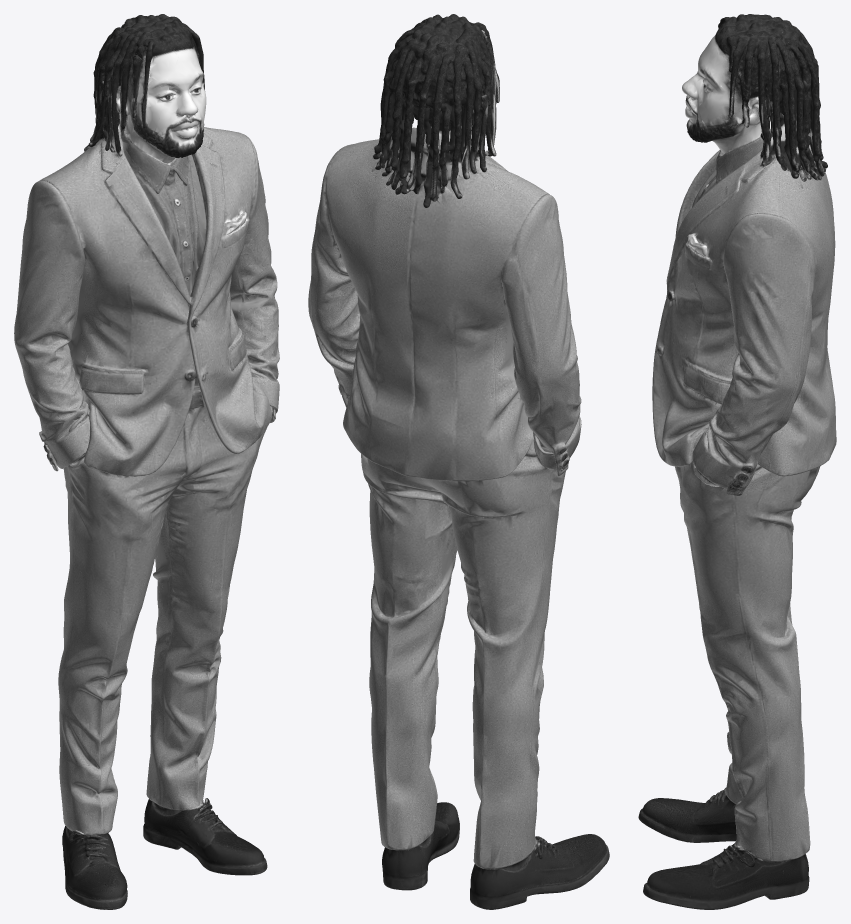
The model's file is marquis-v10.glb.
The picture shows the model from 3 angles, left to right: view 1: azimuth 30°, elevation 25°; view 2: azimuth 150°, elevation 25°; view 3: azimuth 270°, elevation 25°; orthographic projection. The views are drawn at different scales.
Parts seen in each view (by area): view 1: mesh_node; view 2: mesh_node; view 3: mesh_node.
Part boxes in pixels (box(x1,y1,x2,y2)): mesh_node: box(14, 14, 279, 909); mesh_node: box(308, 14, 609, 909); mesh_node: box(638, 14, 836, 909).
Bounding box in the file's own units: 0.6007 × 1.9 × 0.3984.
Materials: 1 (1 with a texture image).
